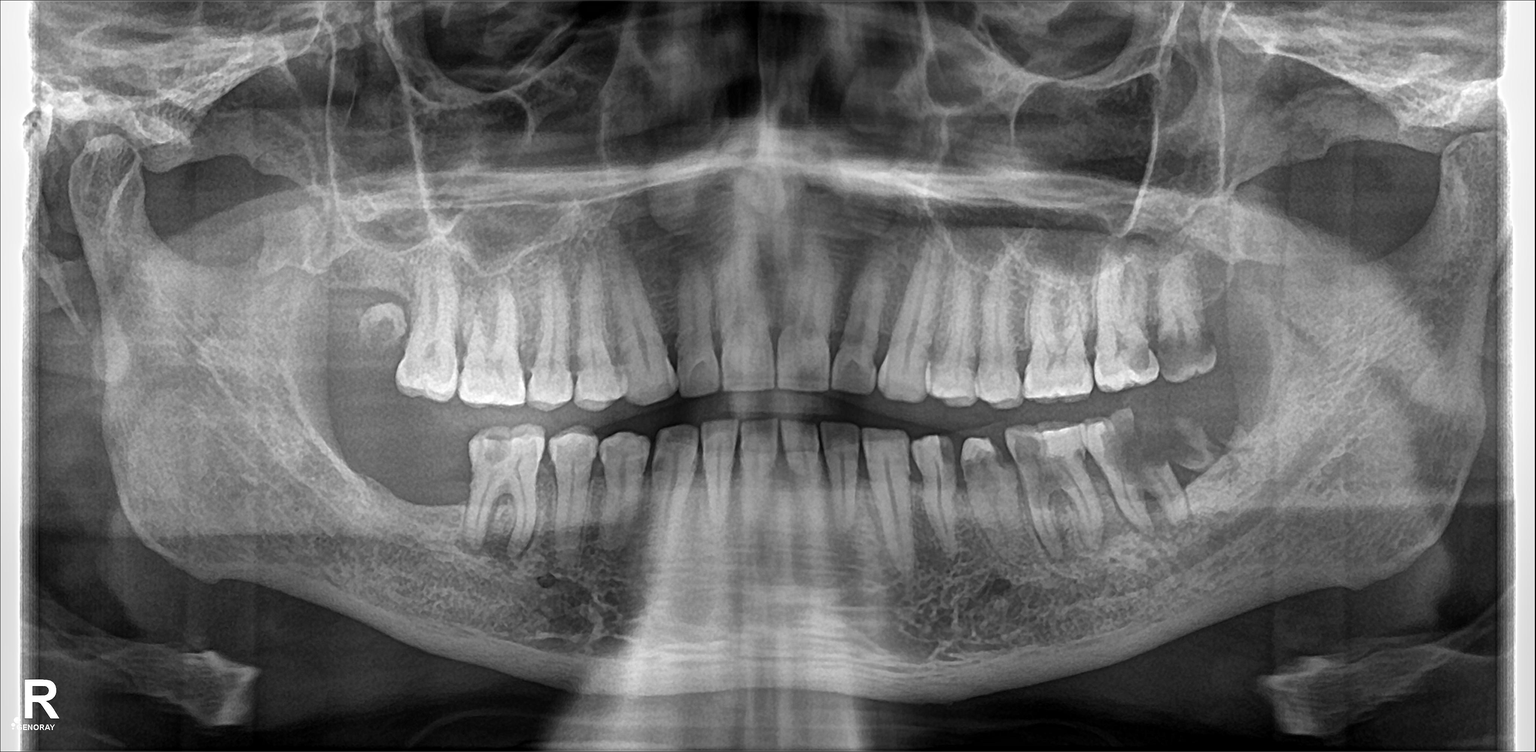Dental Caries: (1017, 441, 1067, 493), (1104, 428, 1159, 475), (959, 449, 1012, 490), (1155, 329, 1208, 364), (836, 359, 872, 392), (1123, 342, 1155, 377), (939, 430, 956, 484)
Missing Tooth: (337, 404, 396, 511), (328, 268, 374, 378), (425, 424, 468, 541), (399, 413, 422, 545)
Retained Root: (1164, 404, 1232, 487), (361, 272, 402, 372)
